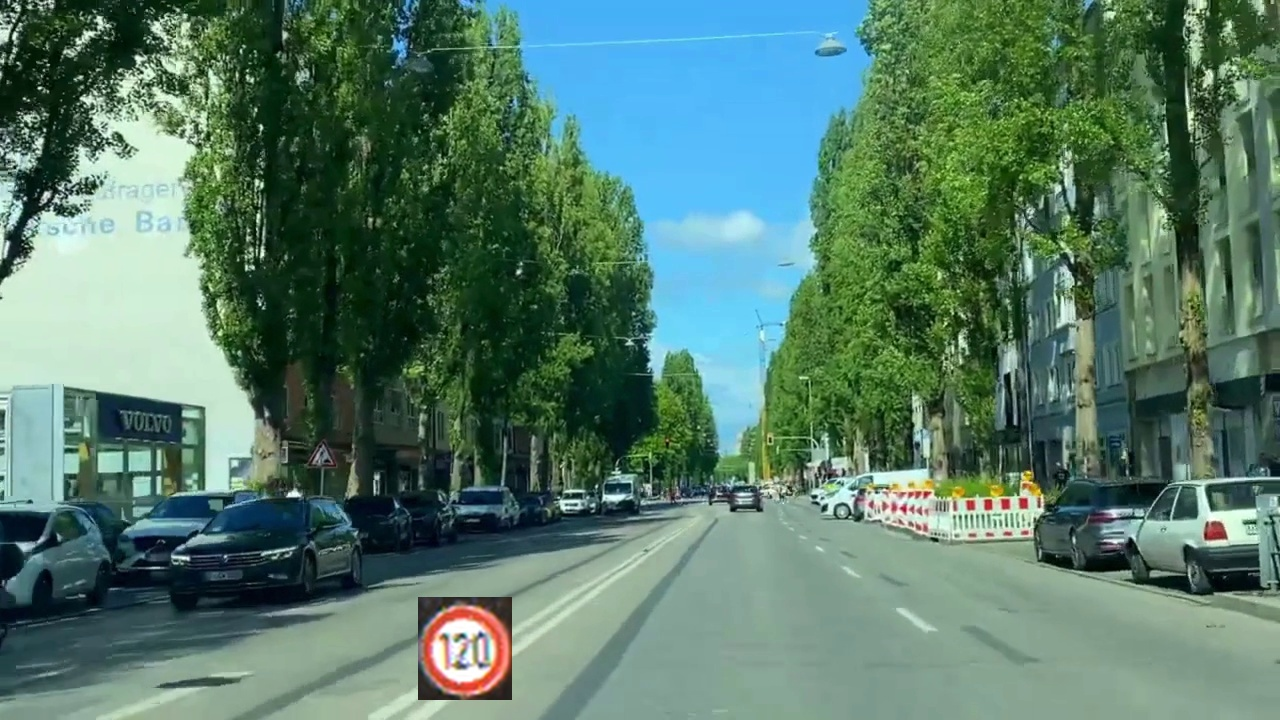Speed 120: (418, 597, 512, 700)
